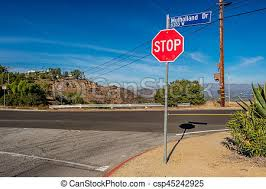Stop: (148, 23, 186, 69)
